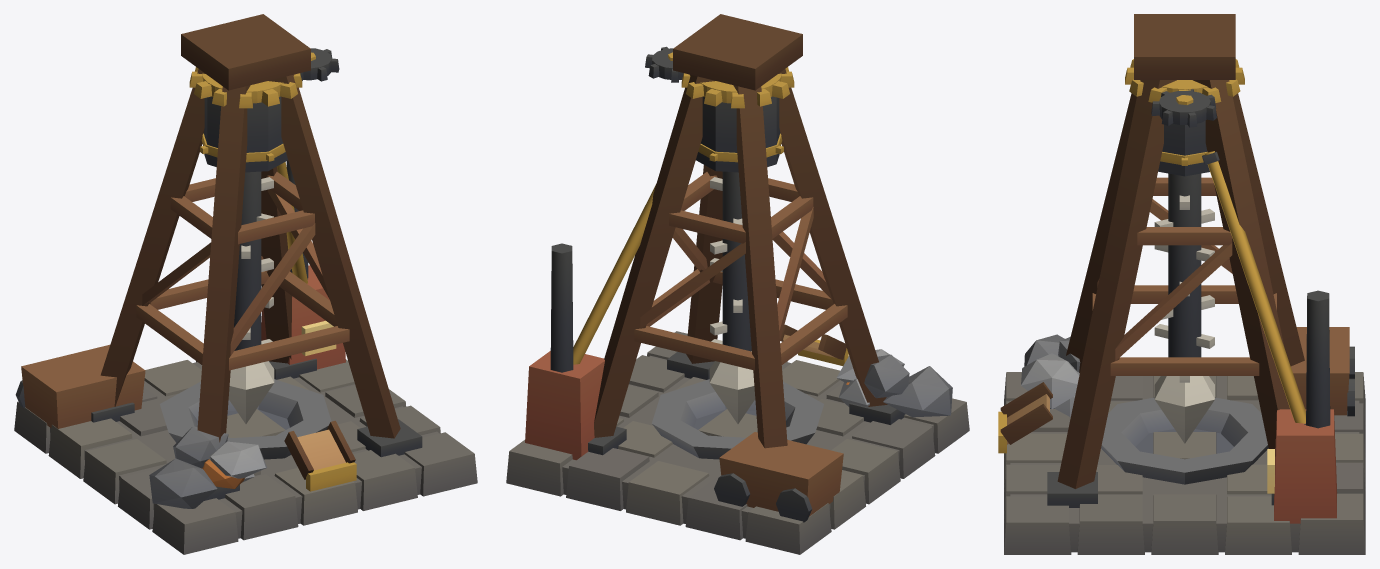
Rendered from mach_quarry_drill.glb.
3 renders of one model, left to right at view 1: azimuth 30°, elevation 25°; view 2: azimuth 150°, elevation 25°; view 3: azimuth 270°, elevation 25°, orthographic. The views are drawn at different scales.
Visible parts, largest first — view 1: mach_quarry_drill; view 2: mach_quarry_drill; view 3: mach_quarry_drill.
Boxes of the visible parts, bbox=[...] form: mach_quarry_drill: bbox=[14, 14, 477, 554]; mach_quarry_drill: bbox=[506, 14, 969, 554]; mach_quarry_drill: bbox=[998, 14, 1365, 554].
Bounding box in the file's own units: 5.82 × 7.7 × 5.79.
1 material, 1 textured.
